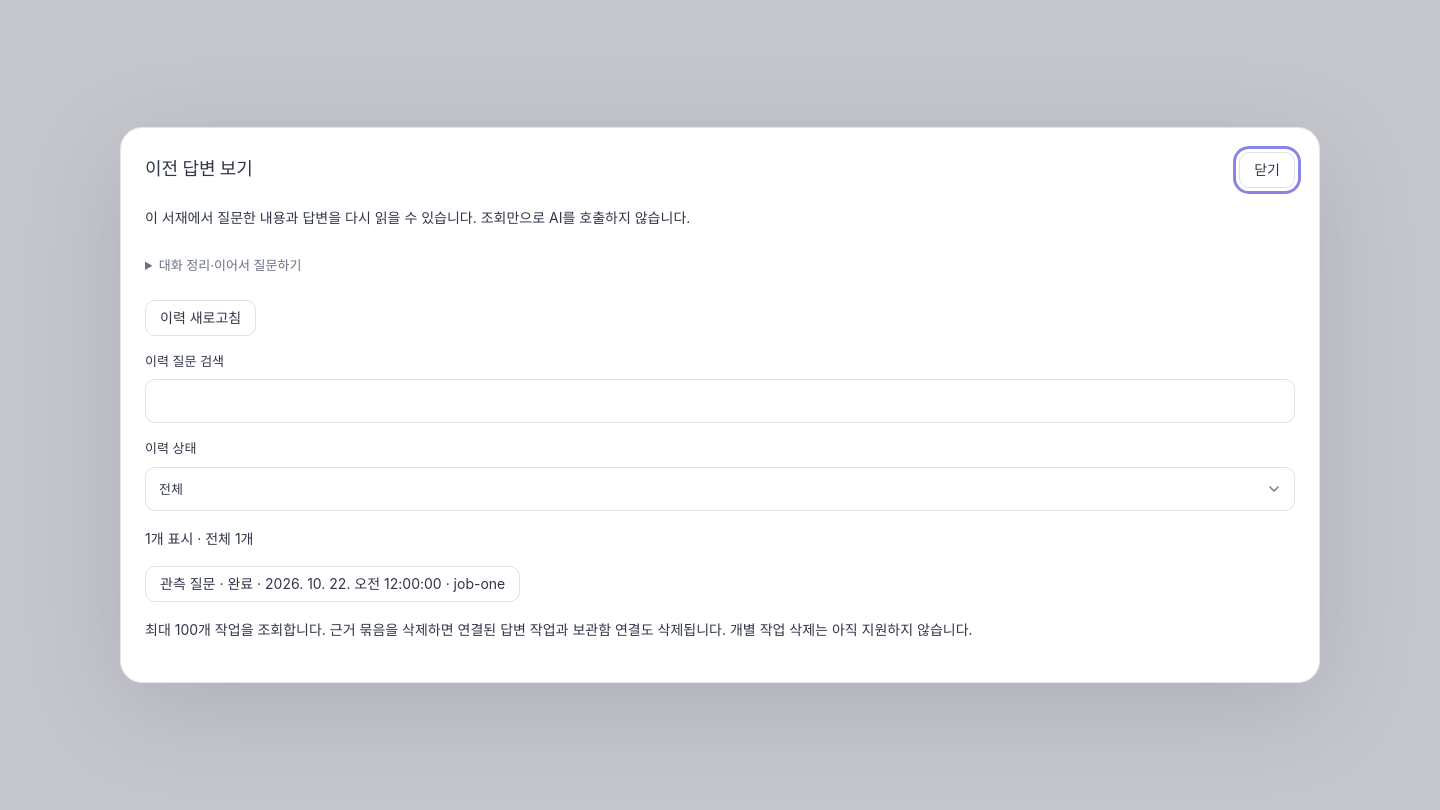
Test case: 다른 Workspace의 작업 상세는 근거 요청 전에 거절한다
This screenshot has width=1440, height=810.
expect the text "1개 표시 · 전체 1개" is shown: met, box [145, 530, 254, 547]
Click the button "관측 질문 · 완료".
click(333, 584)  # box [145, 566, 520, 602]
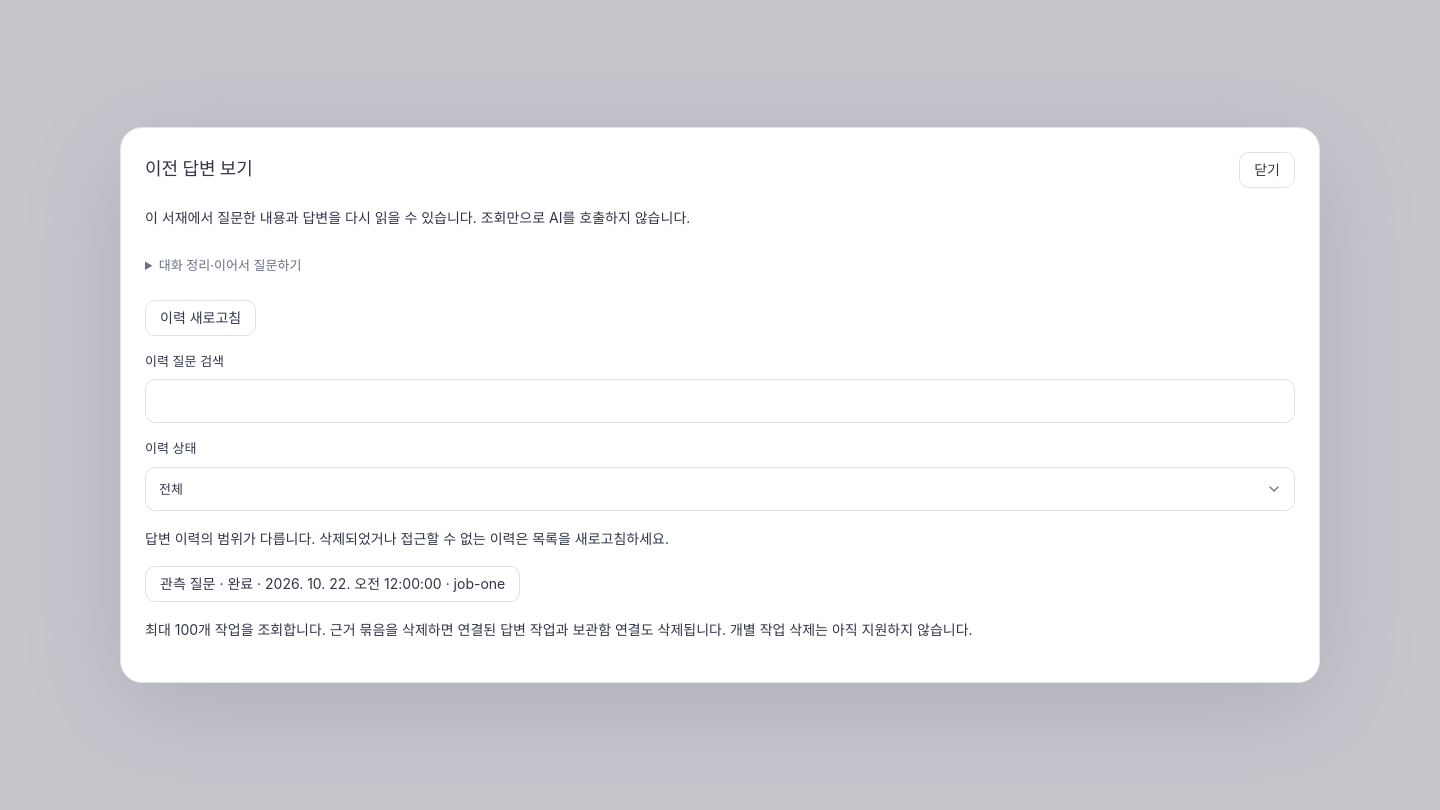
expect the message shows "범위가 다릅니다": met, box [145, 530, 315, 547]
